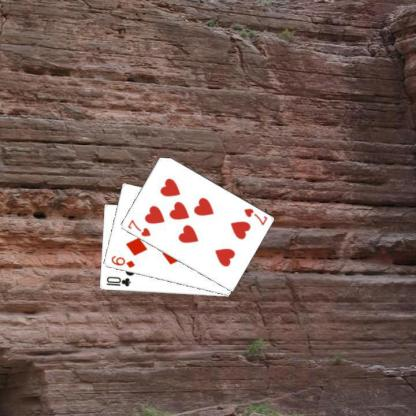10C: (103, 274, 132, 288)
6D: (108, 253, 136, 269)
7H: (125, 217, 152, 238), (241, 206, 269, 226)
